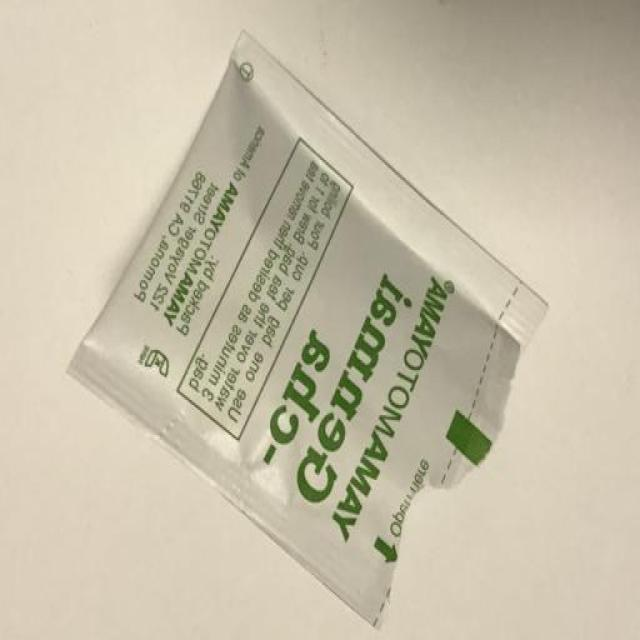Random Trash: (66, 28, 548, 627)
